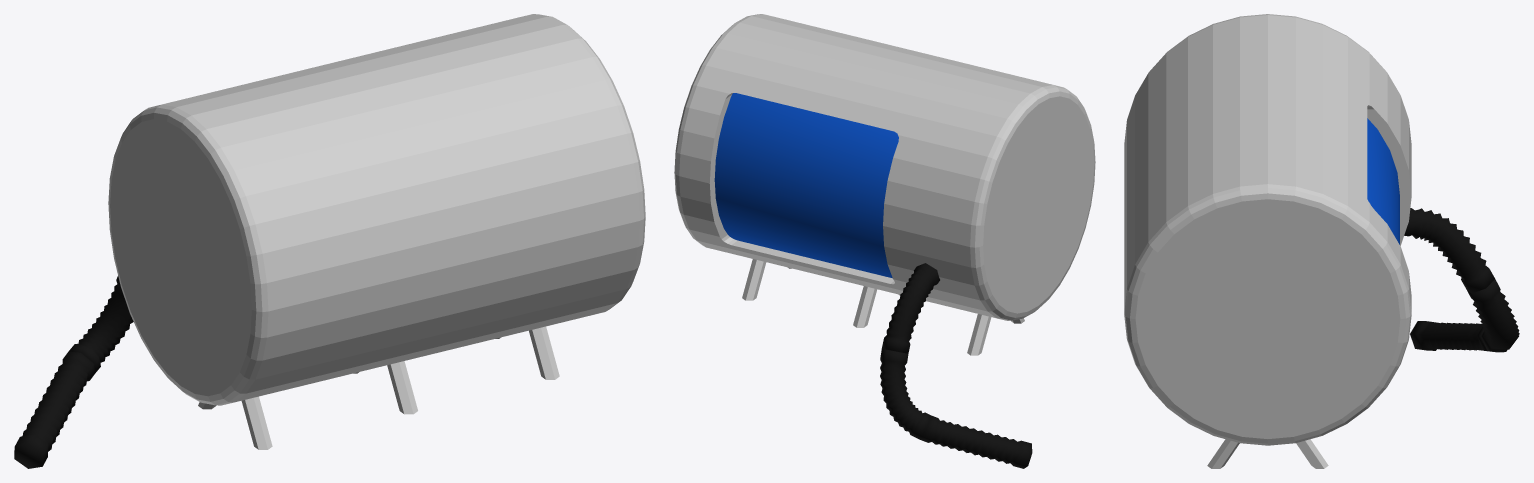
File: Wassertank.obj
3 renders of one model, left to right at view 1: azimuth 30°, elevation 25°; view 2: azimuth 150°, elevation 25°; view 3: azimuth 270°, elevation 25°, orthographic. The views are drawn at different scales.
Visible parts, largest first — view 1: Cylinder; view 2: Cylinder; view 3: Cylinder.
Boxes of the visible parts, x1,y1,x2,y2 form: Cylinder: [14, 14, 645, 468]; Cylinder: [674, 14, 1095, 468]; Cylinder: [1124, 14, 1519, 468].
Size of the model in its own units: 0.7065 by 0.5692 by 0.5502.
